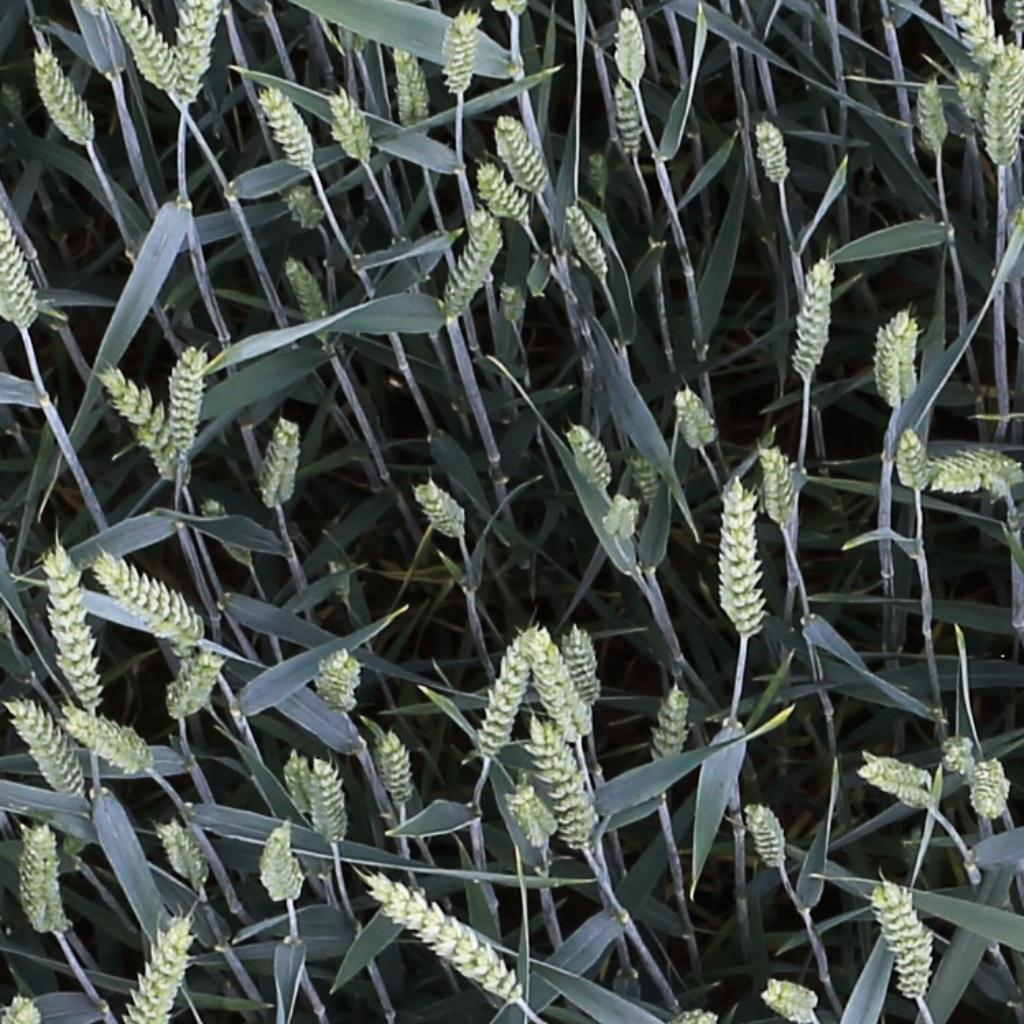0-0: (367, 876, 524, 1003), (89, 544, 202, 638), (43, 546, 102, 714), (99, 365, 185, 479), (477, 622, 542, 763), (531, 716, 599, 850), (5, 699, 87, 801), (713, 480, 767, 632), (126, 910, 196, 1022), (531, 625, 591, 749), (155, 332, 214, 457), (443, 203, 501, 320), (876, 882, 932, 1003), (105, 0, 181, 89), (31, 47, 96, 148), (788, 253, 836, 379), (845, 751, 940, 811), (879, 302, 930, 413), (21, 823, 68, 940), (259, 411, 314, 510), (259, 81, 316, 174), (921, 448, 1021, 499), (496, 107, 551, 197), (982, 46, 1021, 170), (65, 712, 147, 770), (176, 0, 219, 109), (562, 196, 614, 283), (0, 195, 34, 326), (167, 648, 225, 724), (565, 417, 617, 494), (282, 249, 331, 330), (157, 820, 208, 897), (258, 819, 301, 909), (327, 86, 375, 166), (435, 6, 479, 93), (476, 157, 532, 225), (506, 782, 554, 856), (310, 756, 348, 849), (942, 0, 994, 67), (653, 681, 692, 768), (564, 622, 599, 715), (413, 481, 469, 539), (746, 800, 789, 875), (962, 757, 1012, 819), (393, 42, 427, 132), (674, 385, 718, 453), (763, 439, 795, 532), (282, 749, 318, 827), (379, 727, 412, 812), (614, 72, 645, 159), (756, 110, 790, 188), (319, 645, 356, 715), (921, 70, 951, 155), (899, 421, 931, 498), (618, 2, 645, 87), (629, 447, 664, 512), (957, 68, 991, 134), (285, 182, 324, 230), (763, 988, 817, 1021), (585, 141, 613, 202), (604, 490, 633, 544), (499, 275, 527, 330), (937, 732, 970, 771), (5, 987, 36, 1024), (1002, 0, 1024, 40), (674, 1008, 718, 1024)
